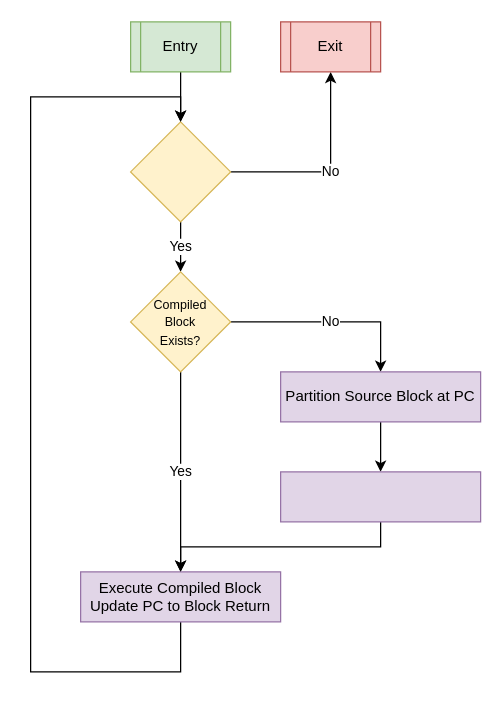
Some shapes in this 503 by 704 pixel diagram are drawn without their labels. Each missing label, with the centre of its shape:
"Compile Source Block" goes at pixel 380 496.
"Valid PC?" goes at pixel 180 171.
